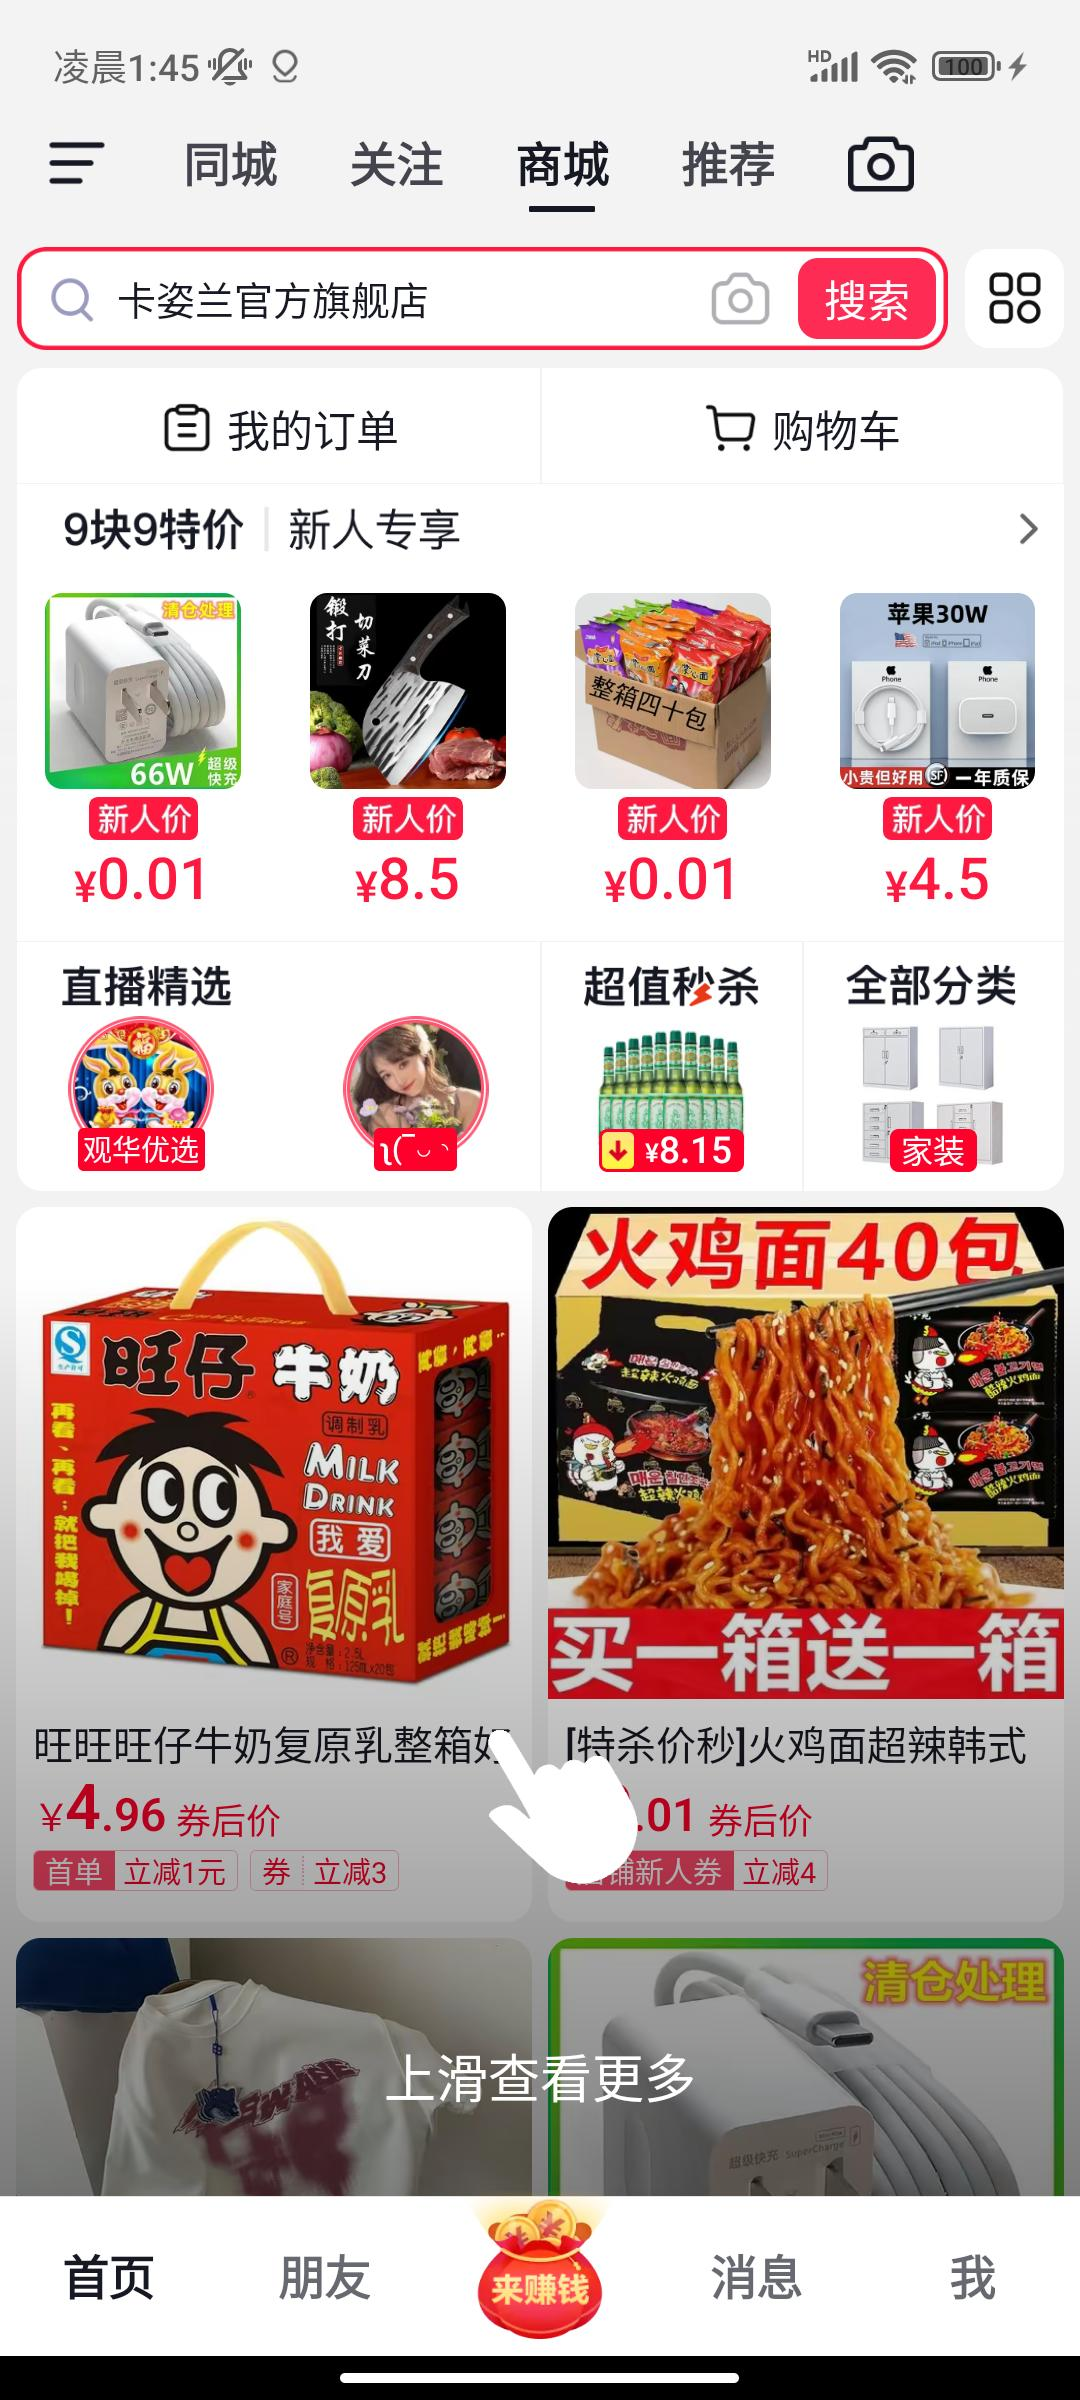ui_group: (542, 1211, 1072, 1906), (15, 227, 1069, 373), (17, 490, 1065, 572), (554, 580, 808, 911), (41, 932, 269, 1195), (538, 943, 783, 1185), (835, 951, 1033, 1182), (136, 387, 421, 481), (457, 2209, 623, 2356)
